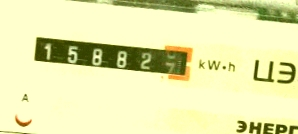1: (40, 39, 54, 60)
2: (138, 49, 152, 70)
5: (64, 42, 79, 64)
7: (163, 59, 175, 75)
8: (89, 44, 104, 67), (114, 47, 128, 70)
screen: (23, 22, 203, 88)
